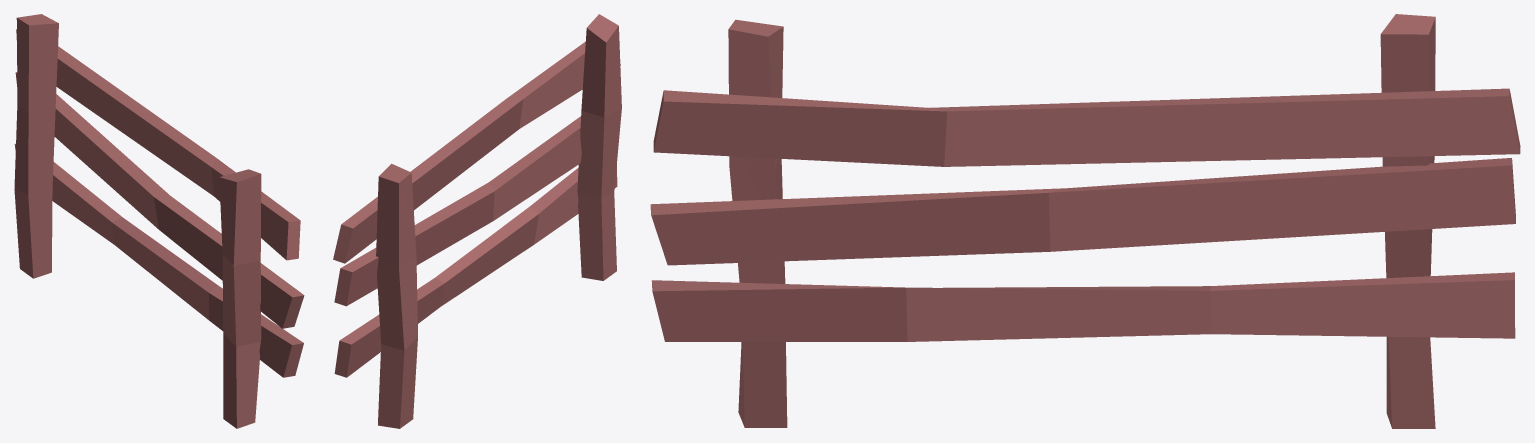
The model's file is fence.fbx.
3 renders of one model, left to right at view 1: azimuth 30°, elevation 25°; view 2: azimuth 150°, elevation 25°; view 3: azimuth 270°, elevation 25°, orthographic. The views are drawn at different scales.
Visible parts, largest first — view 1: fence; view 2: fence; view 3: fence.
Boxes of the visible parts, x1=… form: fence: x1=14, y1=14, x2=304, y2=428; fence: x1=333, y1=14, x2=621, y2=428; fence: x1=650, y1=14, x2=1520, y2=428.
Bounding box in the file's own units: 44.18 × 204 × 402.
